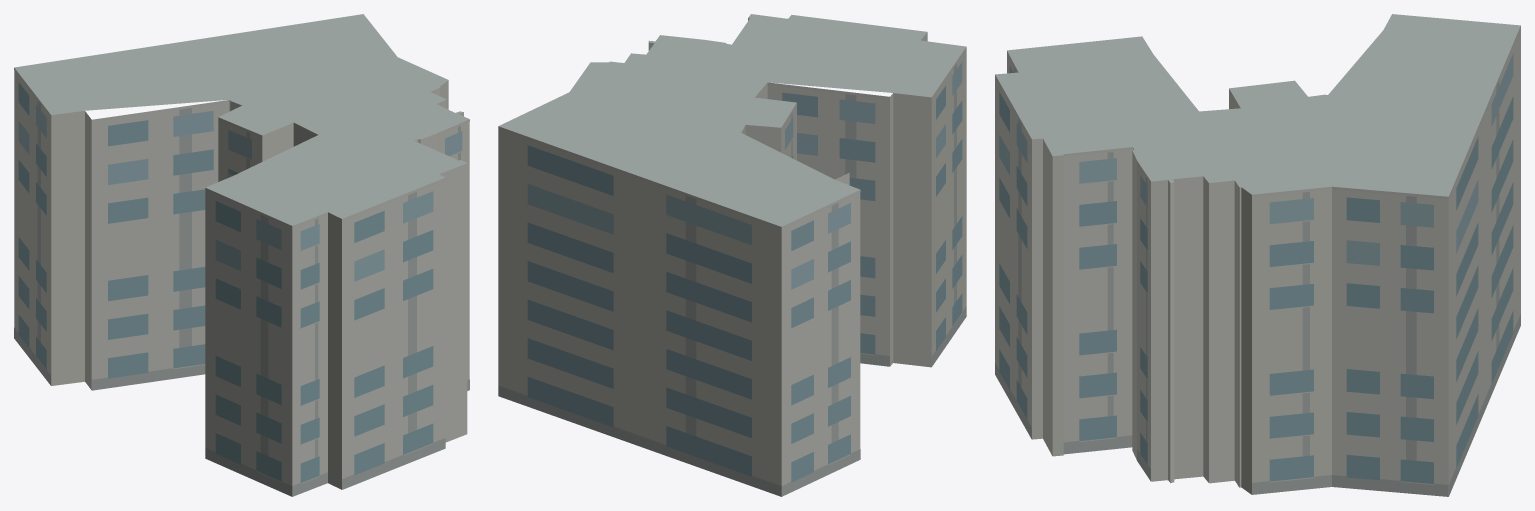
File: survey-upis-33043113.glb
The picture shows the model from 3 angles, left to right: view 1: azimuth 30°, elevation 25°; view 2: azimuth 150°, elevation 25°; view 3: azimuth 270°, elevation 25°; orthographic projection. The views are drawn at different scales.
Visible parts, largest first — view 1: survey-upis-33043113.tmp; view 2: survey-upis-33043113.tmp; view 3: survey-upis-33043113.tmp.
Part boxes in pixels (x1,y1,x2,y2): survey-upis-33043113.tmp: [14, 14, 469, 496]; survey-upis-33043113.tmp: [498, 14, 966, 496]; survey-upis-33043113.tmp: [995, 14, 1520, 496].
Bounding box in the file's own units: 33.29 × 25.5 × 40.48.
